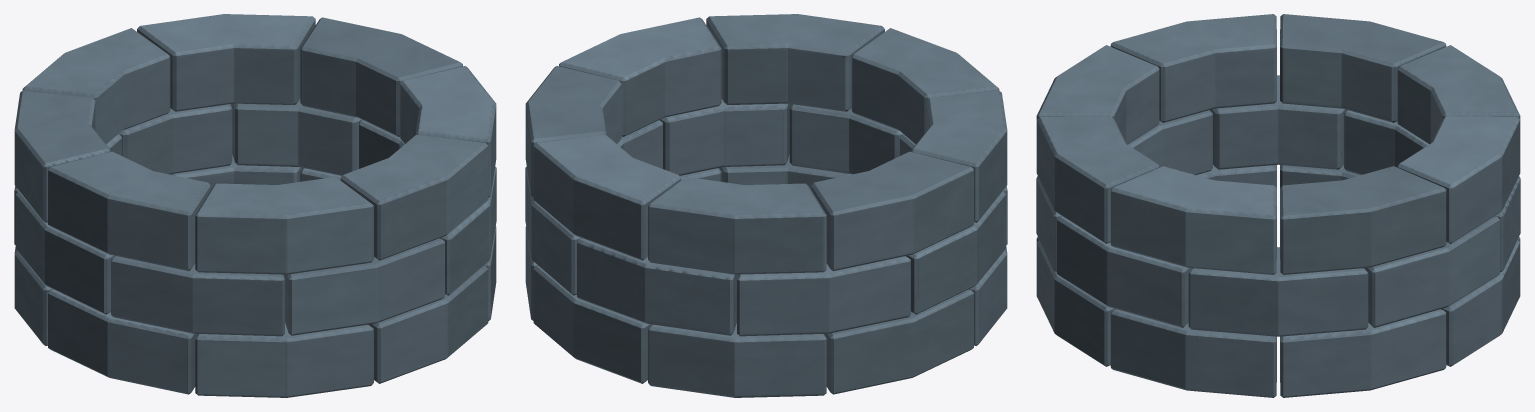
The model's file is TX_D21_Well_Ring.fbx.
3 views of the same model, side by side, from view 1: azimuth 30°, elevation 25°; view 2: azimuth 150°, elevation 25°; view 3: azimuth 270°, elevation 25° (orthographic).
Parts seen in each view (by area): view 1: TX_D21_Well_Ring; view 2: TX_D21_Well_Ring; view 3: TX_D21_Well_Ring.
Part boxes in pixels (x1,y1,x2,y2): TX_D21_Well_Ring: (14,14,496,397); TX_D21_Well_Ring: (525,14,1007,397); TX_D21_Well_Ring: (1036,14,1520,397).
Bounding box in the file's own units: 2 × 0.83 × 2.
Materials: 1 (1 with a texture image).
